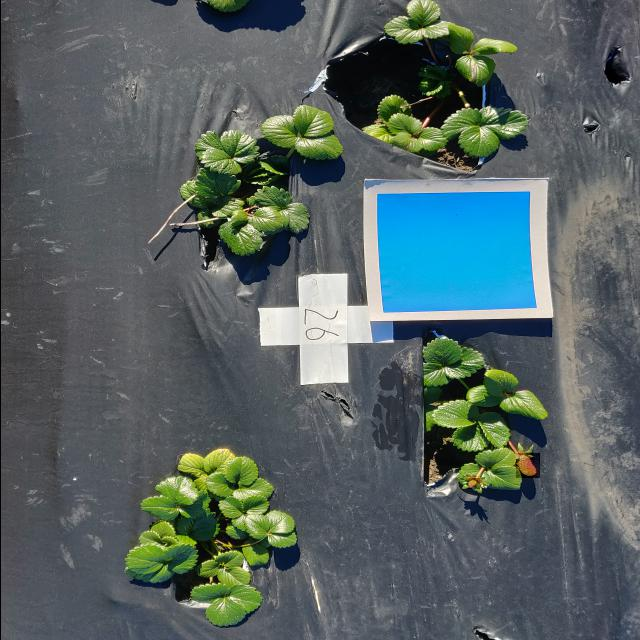ripe: (464, 478, 481, 490)
unripe: (514, 453, 539, 479)
